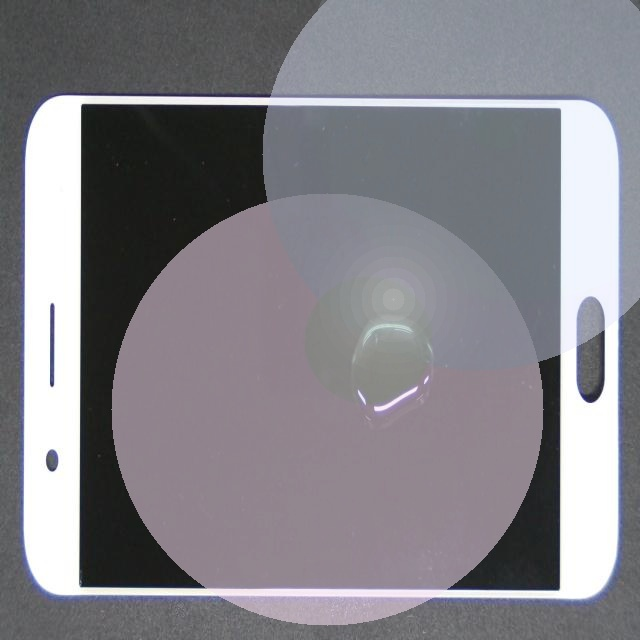oil: (221, 212, 640, 562)
